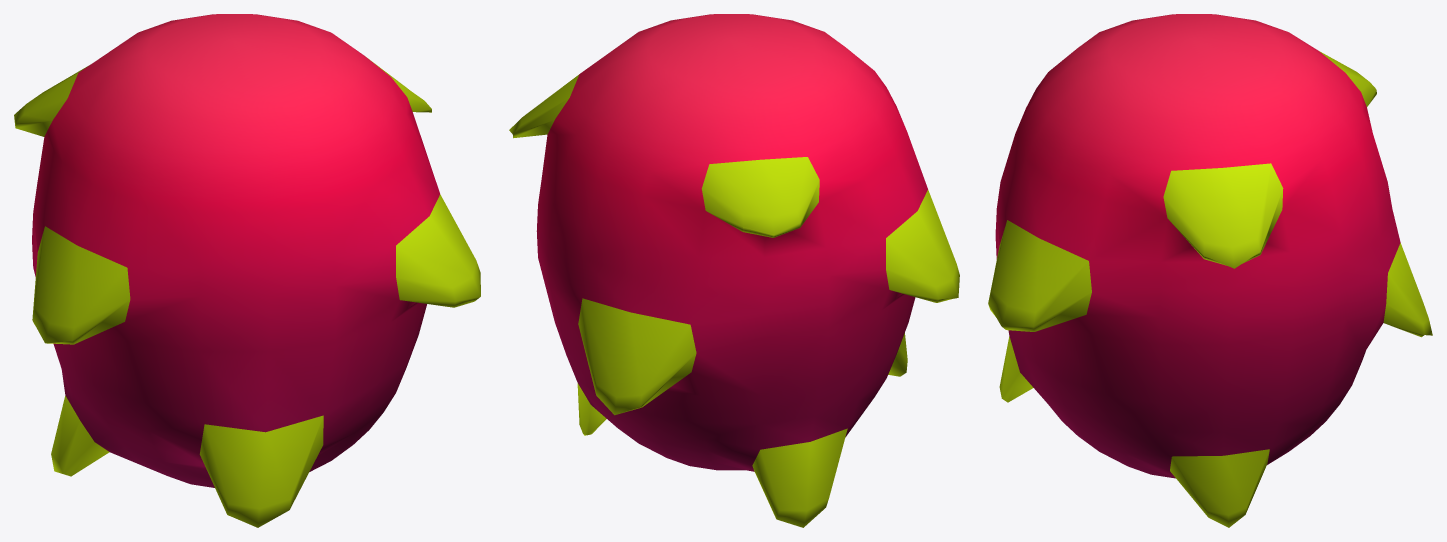
File: Farm_Crop_Dragon_Fruit_01.fbx
3 views of the same model, side by side, from view 1: azimuth 30°, elevation 25°; view 2: azimuth 150°, elevation 25°; view 3: azimuth 270°, elevation 25° (orthographic). The views are drawn at different scales.
Parts seen in each view (by area): view 1: Farm_Crop_Dragon_Fruit_01; view 2: Farm_Crop_Dragon_Fruit_01; view 3: Farm_Crop_Dragon_Fruit_01.
Part boxes in pixels (box(x1,y1,x2,y2)): Farm_Crop_Dragon_Fruit_01: box(14, 14, 480, 527); Farm_Crop_Dragon_Fruit_01: box(509, 14, 959, 527); Farm_Crop_Dragon_Fruit_01: box(988, 14, 1432, 527).
Bounding box in the file's own units: 44.25 × 43.73 × 41.07.
